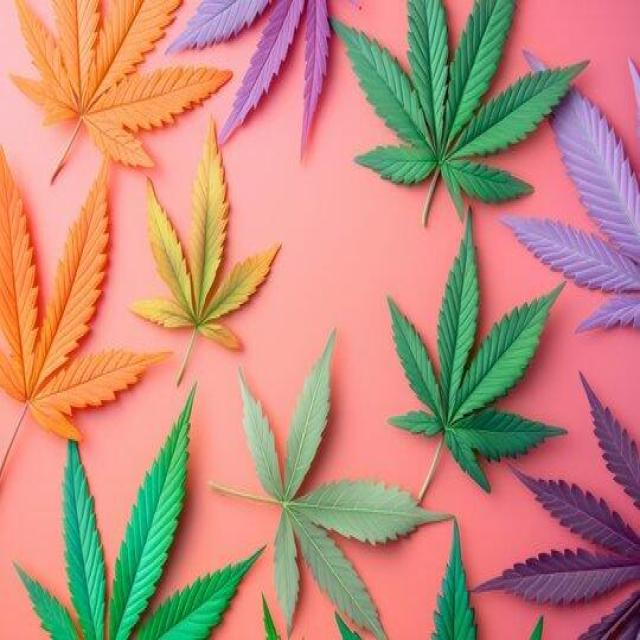cannabis: (209, 329, 454, 638), (13, 380, 267, 638), (325, 0, 588, 234), (0, 148, 168, 476), (386, 206, 568, 505), (126, 114, 282, 386), (11, 0, 235, 187), (494, 84, 639, 335), (164, 0, 331, 170), (471, 465, 639, 603), (579, 368, 639, 508), (428, 516, 480, 638), (580, 594, 639, 638)
